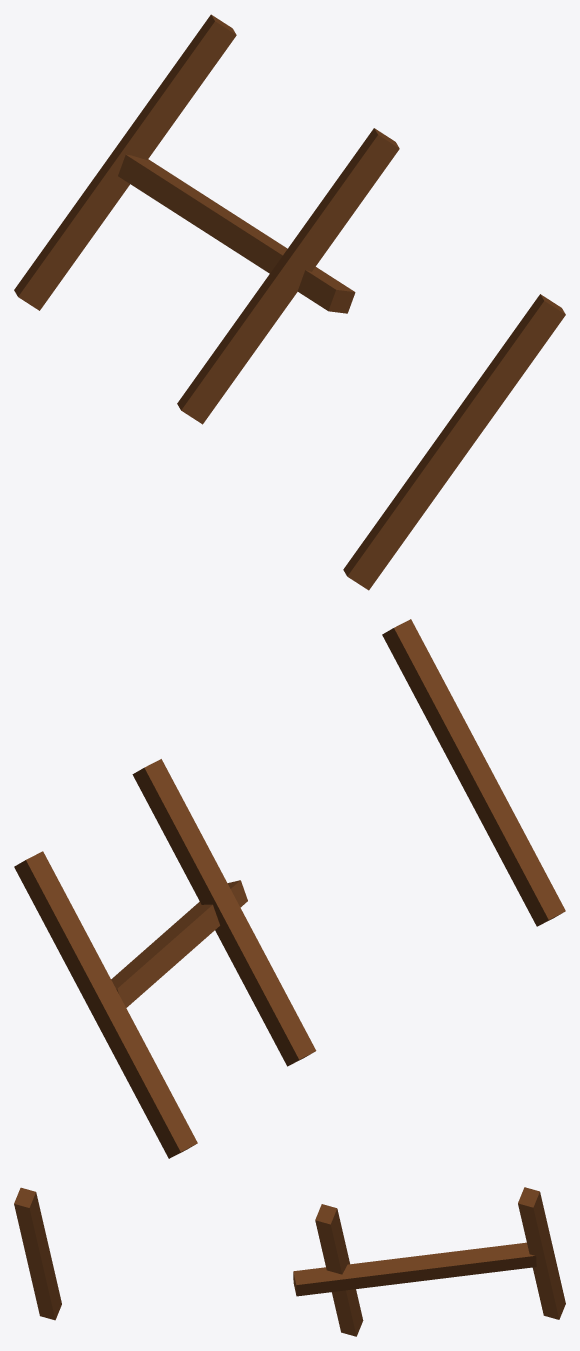
Rendered from vallas2.fbx.
3 views of the same model, one above another, from view 1: azimuth 30°, elevation 25°; view 2: azimuth 150°, elevation 25°; view 3: azimuth 270°, elevation 25° (orthographic). The views are drawn at different scales.
Visible parts, largest first — view 1: Cube.182, Cube.183, Cube.179, Cube.188; view 2: Cube.179, Cube.182, Cube.183, Cube.188; view 3: Cube.188, Cube.182, Cube.179, Cube.183.
Part boxes in pixels (x1,y1,x2,y2): Cube.182: (343, 294, 565, 590); Cube.183: (177, 128, 399, 424); Cube.179: (14, 14, 236, 310); Cube.188: (118, 154, 355, 313); Cube.179: (14, 851, 197, 1158); Cube.182: (382, 619, 565, 926); Cube.183: (132, 759, 316, 1066); Cube.188: (111, 880, 247, 1007); Cube.188: (293, 1242, 536, 1296); Cube.182: (14, 1187, 61, 1320); Cube.179: (518, 1187, 565, 1319); Cube.183: (315, 1204, 363, 1336).
Bounding box in the file's own units: 1213 × 1291 × 3288.
